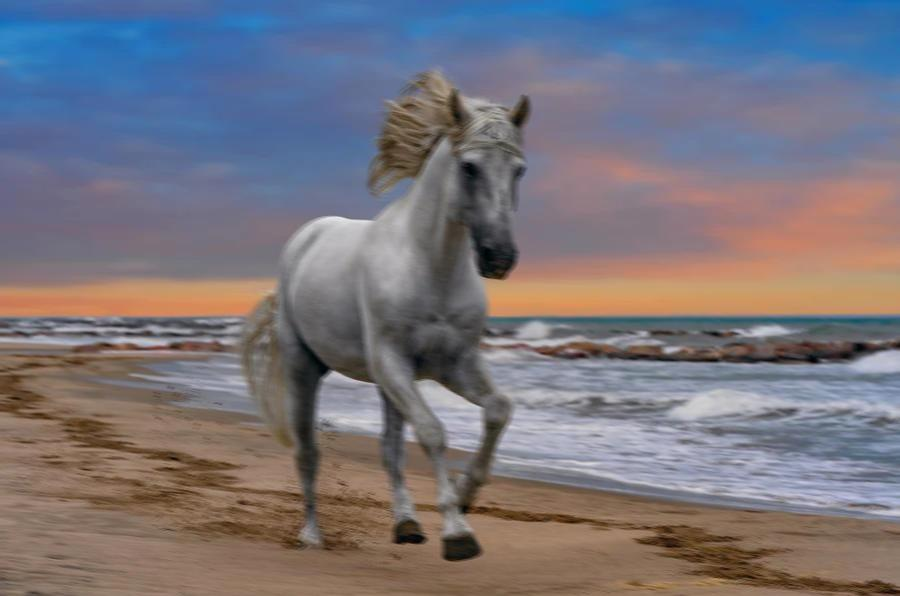horse: (236, 64, 530, 561)
